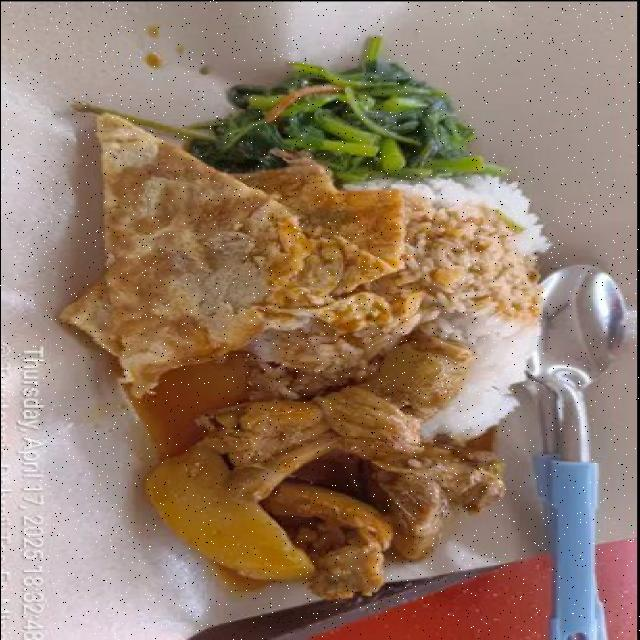Bones: (229, 439, 336, 503)
Chicken: (198, 338, 504, 598)
Egg: (62, 115, 419, 396)
Green veg: (148, 38, 504, 184)
Potato: (146, 436, 309, 581)
Rice: (250, 177, 550, 439)
